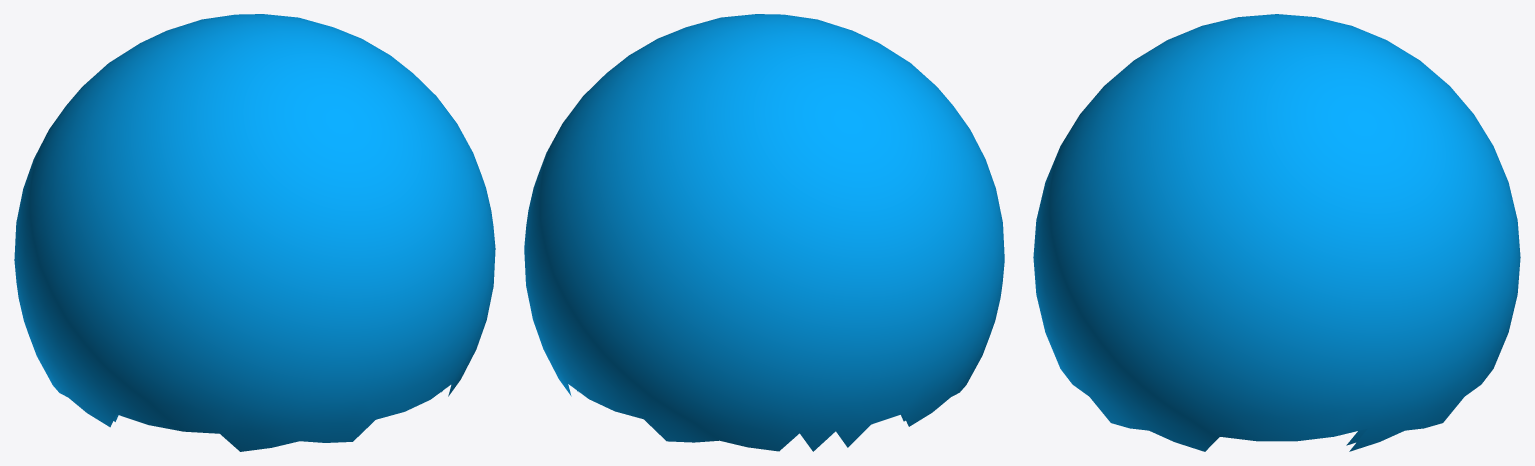
The model's file is Dome_2Sided.fbx.
The picture shows the model from 3 angles, left to right: view 1: azimuth 30°, elevation 25°; view 2: azimuth 150°, elevation 25°; view 3: azimuth 270°, elevation 25°; orthographic projection.
Visible parts, largest first — view 1: Dome; view 2: Dome; view 3: Dome.
Boxes of the visible parts, bbox=[...] form: Dome: bbox=[14, 14, 495, 451]; Dome: bbox=[524, 14, 1004, 451]; Dome: bbox=[1033, 14, 1520, 451].
Size of the model in its own units: 5392 by 4113 by 5392.
